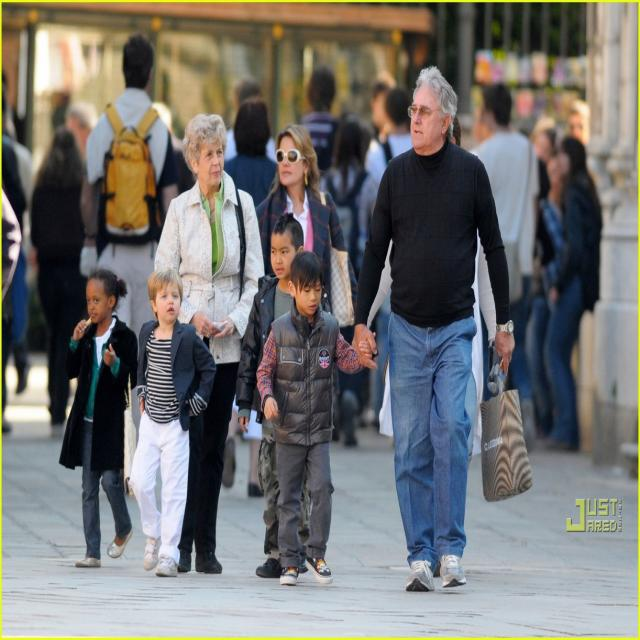body: (349, 91, 535, 579), (349, 63, 516, 593), (149, 109, 267, 578), (253, 248, 379, 586), (234, 211, 333, 583), (79, 36, 185, 358), (127, 264, 218, 581), (470, 81, 540, 452), (57, 268, 139, 568), (526, 81, 590, 446), (354, 82, 419, 434), (254, 124, 359, 332), (538, 133, 604, 461), (314, 120, 380, 447), (29, 126, 94, 438), (1, 90, 38, 394), (2, 92, 30, 441), (361, 82, 494, 144), (51, 93, 176, 154), (224, 96, 278, 206), (223, 75, 278, 164), (294, 65, 341, 169)
